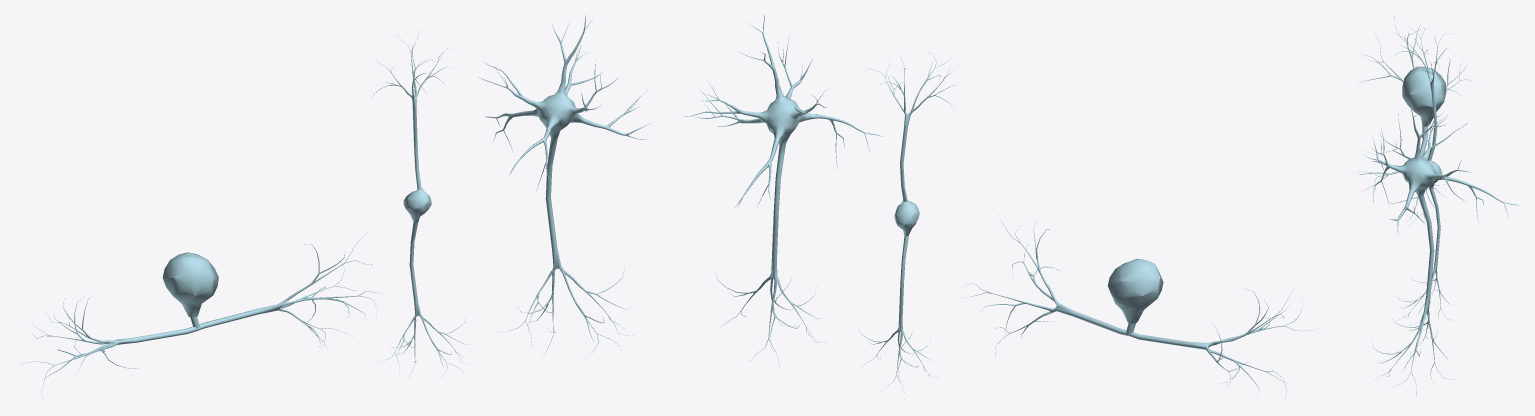
The model's file is realneuron.glb.
3 views of the same model, side by side, from view 1: azimuth 30°, elevation 25°; view 2: azimuth 150°, elevation 25°; view 3: azimuth 270°, elevation 25° (orthographic). The views are drawn at different scales.
Visible parts, largest first — view 1: Neuron.011, Neuron, Neuron.003; view 2: Neuron.011, Neuron, Neuron.003; view 3: Neuron, Neuron.011, Neuron.003.
Part boxes in pixels (x1,y1,x2,y2): Neuron.011: (15,235,382,395); Neuron: (478,14,651,356); Neuron.003: (372,31,471,377); Neuron.011: (962,214,1315,397); Neuron: (683,14,882,372); Neuron.003: (858,52,959,399); Neuron: (1364,103,1518,394); Neuron.011: (1354,16,1472,223); Neuron.003: (1394,28,1452,328).
Size of the model in its own units: 29.35 by 16.33 by 8.18.
